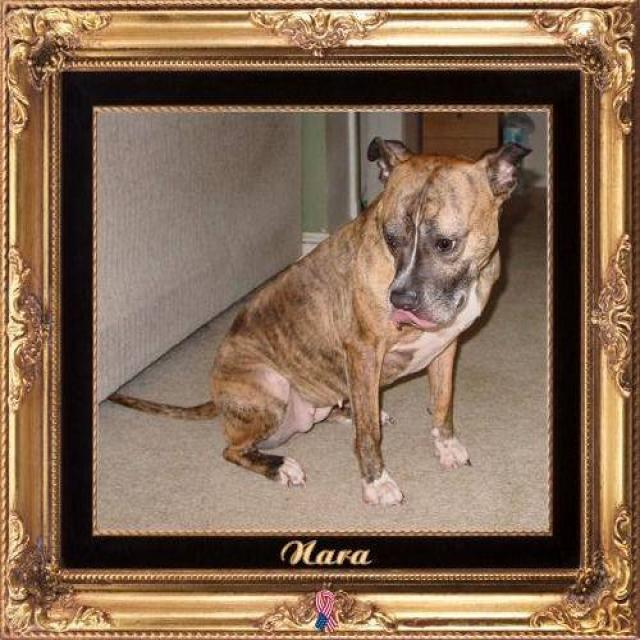dog: (108, 137, 534, 508)
